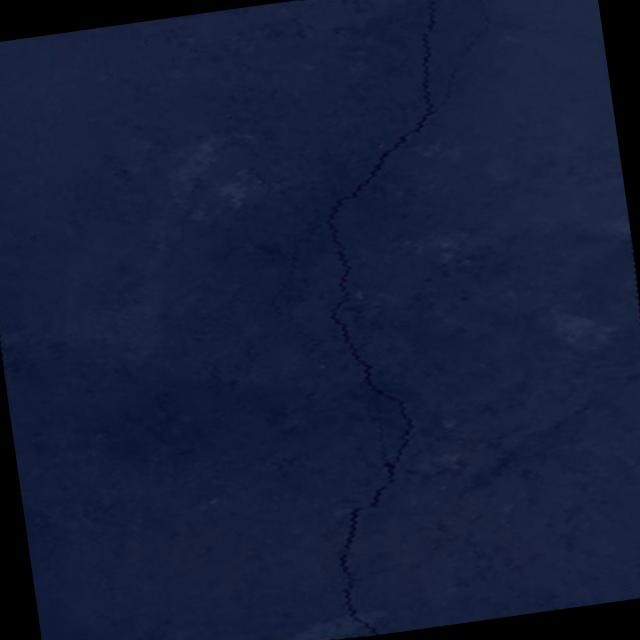crack: (259, 0, 640, 639), (253, 207, 344, 376)
